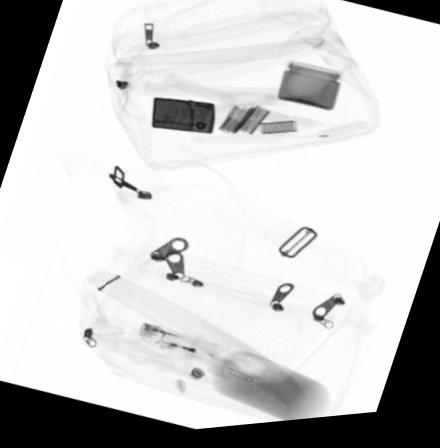Lighter: (136, 325, 219, 367), (149, 100, 214, 138)
